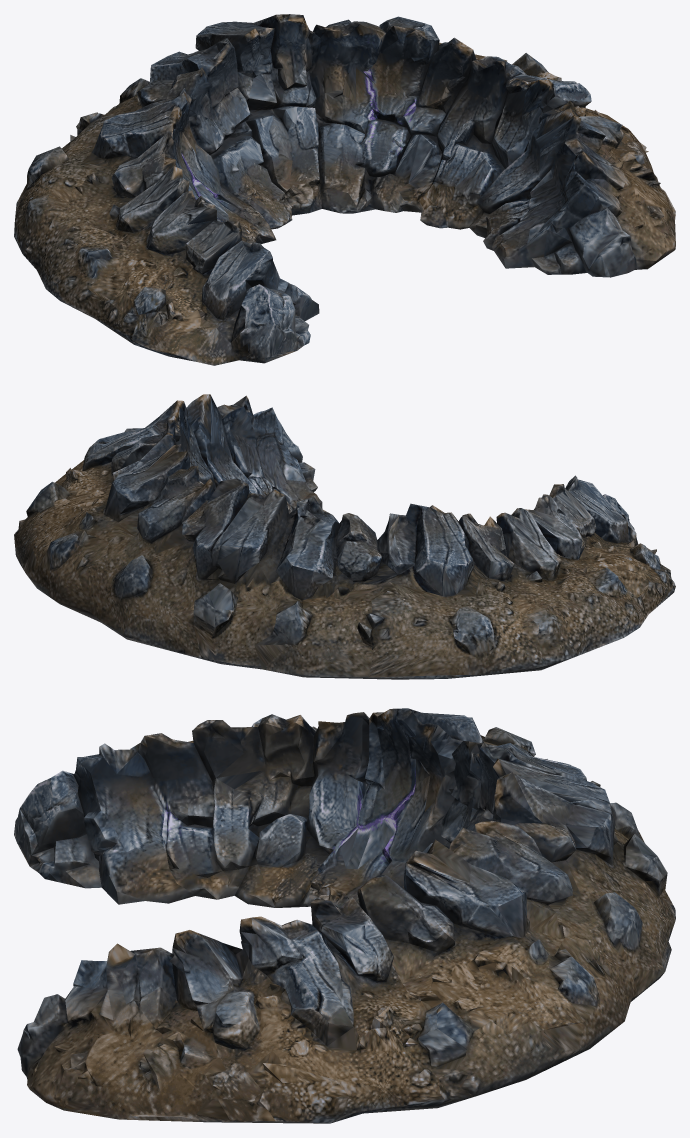
3 views of the same model, one above another, from view 1: azimuth 30°, elevation 25°; view 2: azimuth 150°, elevation 25°; view 3: azimuth 270°, elevation 25° (orthographic). The views are drawn at different scales.
Parts seen in each view (by area): view 1: crater_rim; view 2: crater_rim; view 3: crater_rim.
Boxes of the visible parts, x1=… form: crater_rim: x1=14, y1=14, x2=675, y2=365; crater_rim: x1=14, y1=394, x2=675, y2=679; crater_rim: x1=14, y1=708, x2=675, y2=1123.
Bounding box in the file's own units: 0.98 × 0.2599 × 0.7505.
1 material, 1 textured.
